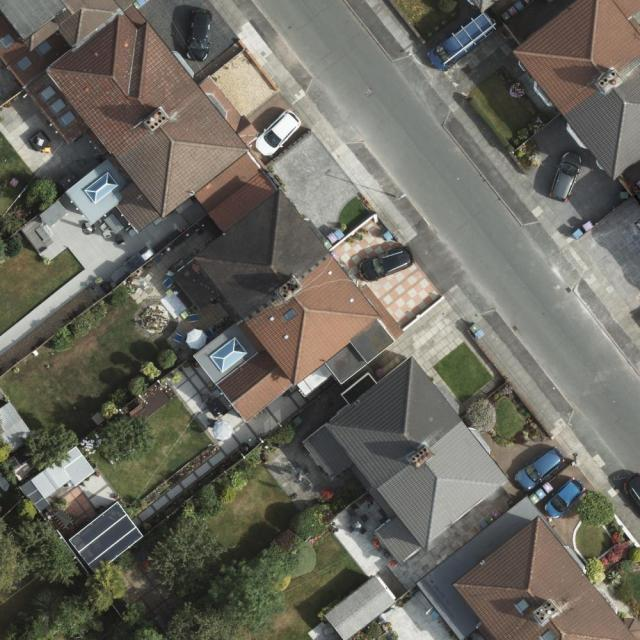roof: (0, 0, 403, 422), (300, 356, 511, 565), (417, 495, 640, 640), (511, 0, 640, 181), (325, 577, 396, 640)
skylight: (208, 335, 250, 375), (83, 170, 120, 205), (58, 108, 79, 129), (15, 54, 35, 72), (40, 83, 58, 102), (37, 39, 55, 58), (49, 97, 66, 115), (0, 33, 16, 49), (282, 308, 298, 323)
